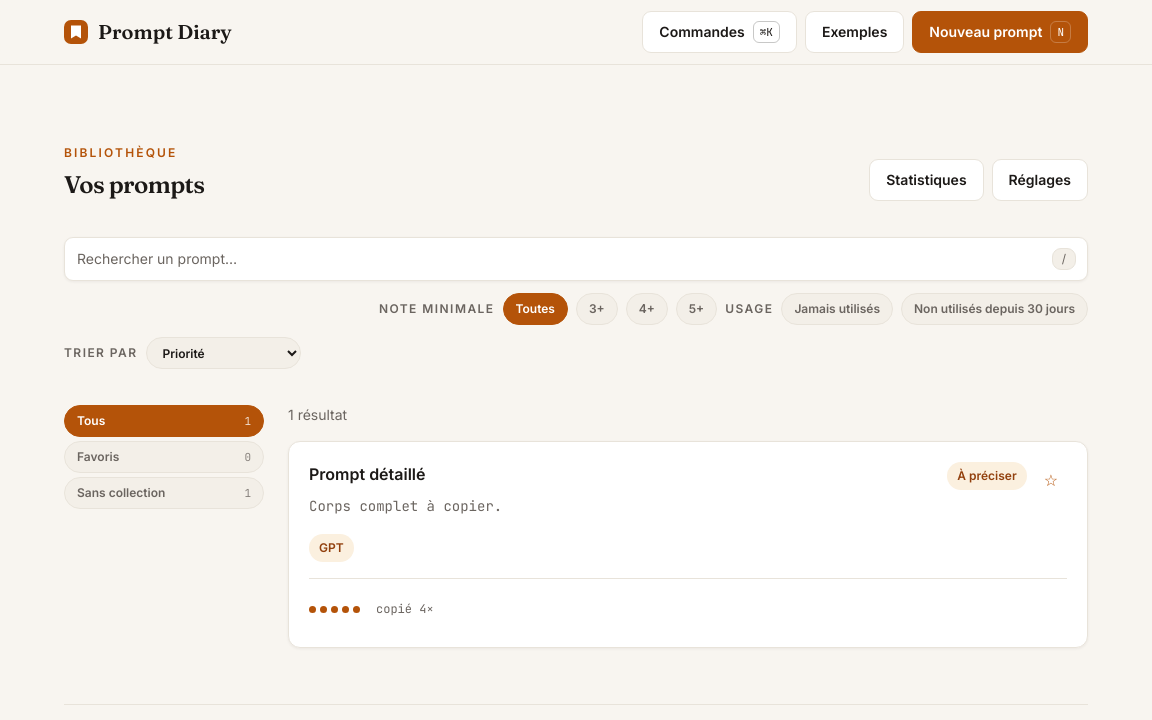
Test case: Prompt Diary prompt library › opens details, copies the body, increments usage, and shows a toast
Check: the heading "Prompt détaillé" is shown, box left=309, top=464, right=426, bottom=484
Click the button named "Ouvrir Prompt détaillé" at point(688, 544), box left=289, top=442, right=1087, bottom=647
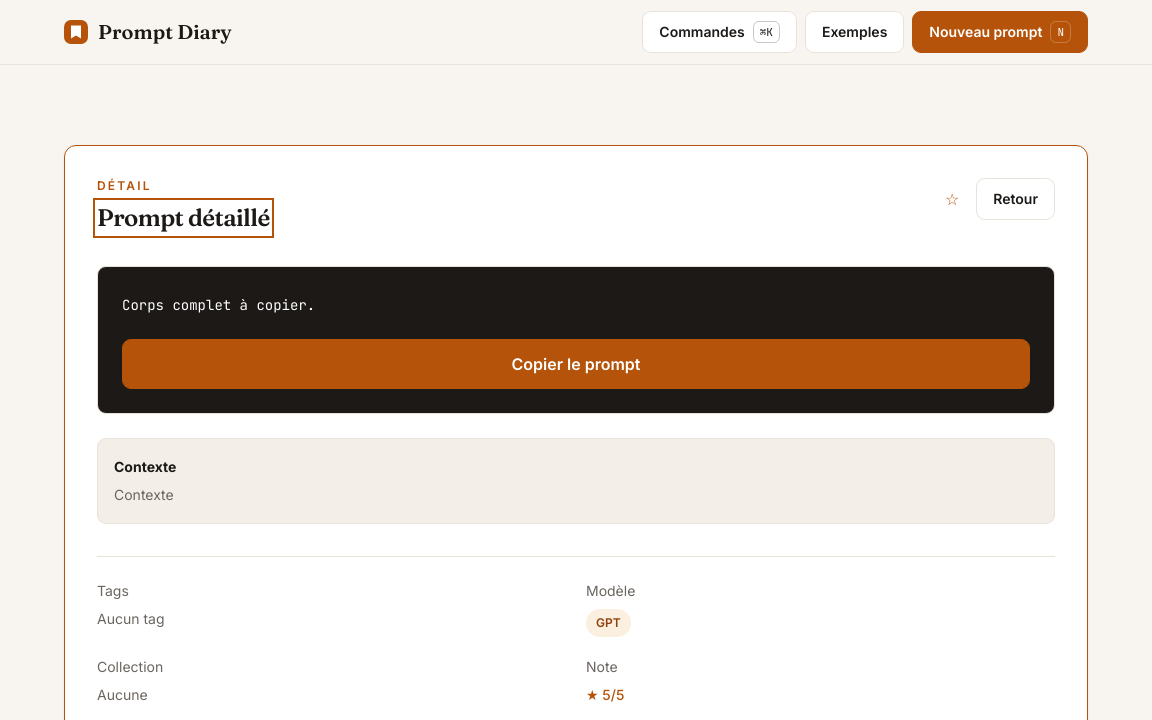
Check: the text "Corps complet à copier." is shown, box left=122, top=296, right=315, bottom=314
Click the button "Copier le prompt" at point(576, 364), box left=122, top=339, right=1030, bottom=389
(page scrolled)
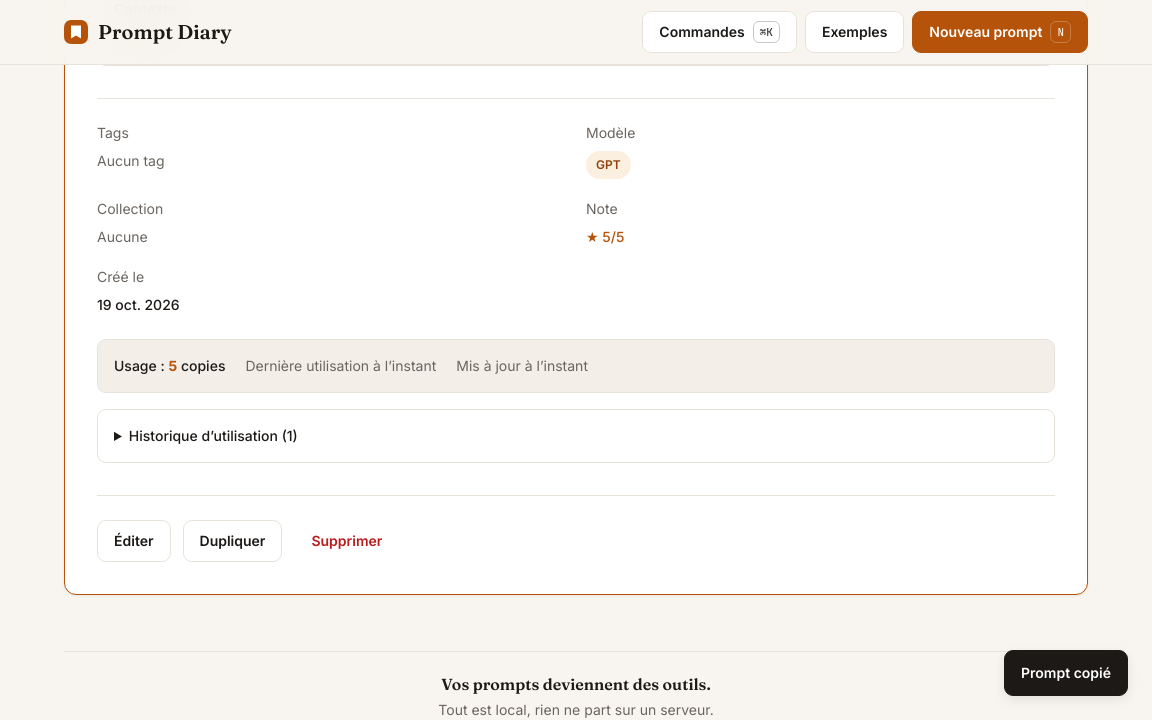
Check: the message reads "Prompt copié", box left=1021, top=664, right=1111, bottom=681
Check: the heading "Historique d’utilisation (1)" is shown, box left=129, top=427, right=298, bottom=444
Check: the text "Dernière utilisation à l’instant" is shown, box left=245, top=356, right=436, bottom=376
